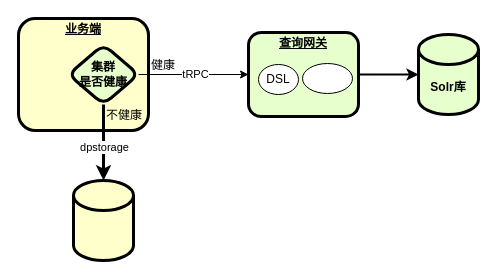
Some shapes in this 497 by 279 pixel diagram are drawn without their labels. The shapes that lost their labels are listed below. From the top down, each one's centre as x and y in pixels, then its label:
the point at 327,78: 路由 发现
the point at 103,220: 业务库
